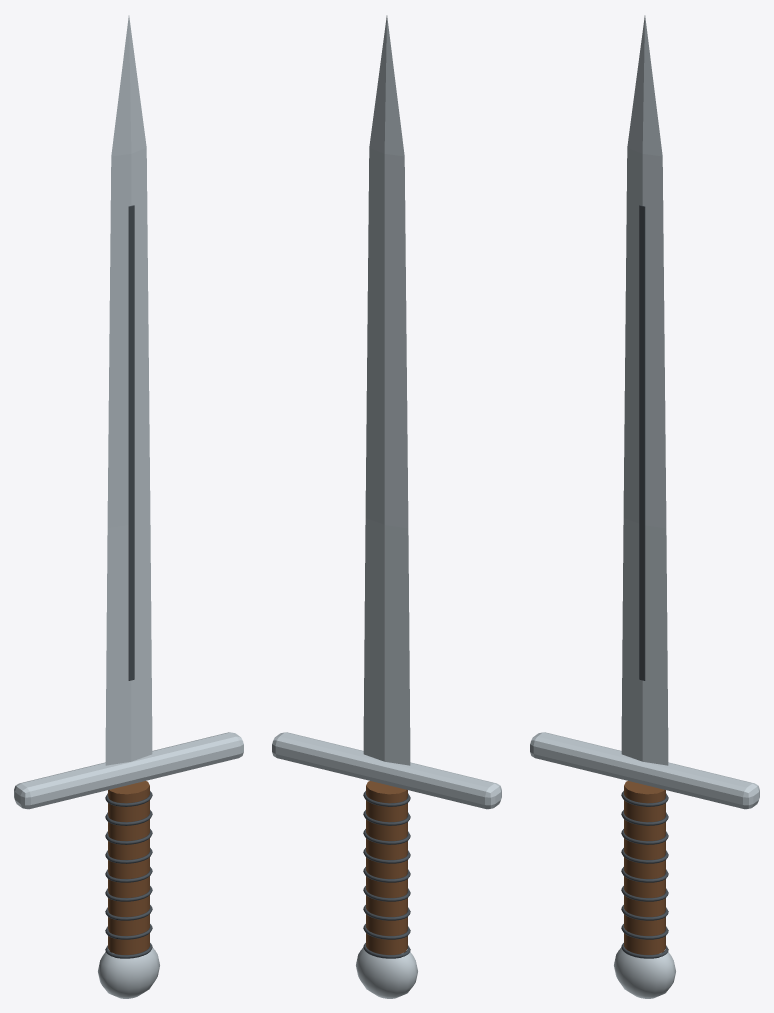
The model's file is sword_longsword.glb.
3 renders of one model, left to right at view 1: azimuth 30°, elevation 25°; view 2: azimuth 150°, elevation 25°; view 3: azimuth 330°, elevation 25°, orthographic.
Visible parts, largest first — view 1: Longsword blade, Straight crossguard, Long two-hand grip, Dark central fuller, Round pommel; view 2: Longsword blade, Straight crossguard, Long two-hand grip, Round pommel; view 3: Longsword blade, Straight crossguard, Long two-hand grip, Dark central fuller, Round pommel.
Boxes of the visible parts, x1,y1,x2,y2 form: Longsword blade: (105,15,152,765); Straight crossguard: (14,732,243,809); Long two-hand grip: (108,781,149,954); Dark central fuller: (128,205,134,680); Round pommel: (98,948,159,998); Longsword blade: (363,15,410,765); Straight crossguard: (272,732,501,809); Long two-hand grip: (366,781,407,954); Round pommel: (356,948,417,998); Longsword blade: (621,15,668,765); Straight crossguard: (530,732,759,809); Long two-hand grip: (624,781,665,954); Dark central fuller: (639,205,645,680); Round pommel: (614,948,675,998).
Bounding box in the file's own units: 0.27 × 1.14 × 0.05.
